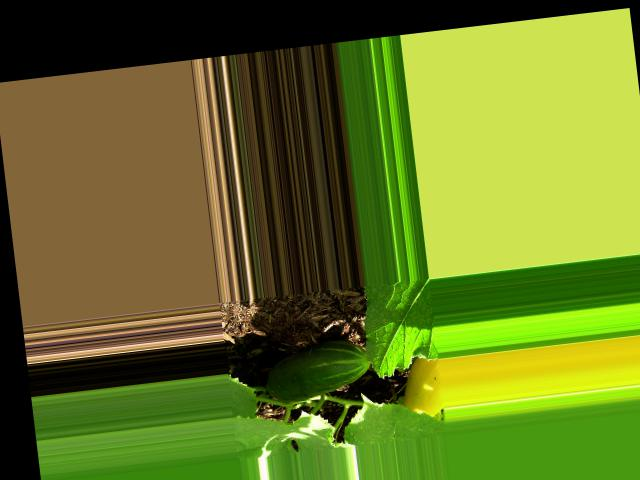cucumber: (261, 335, 373, 405)
